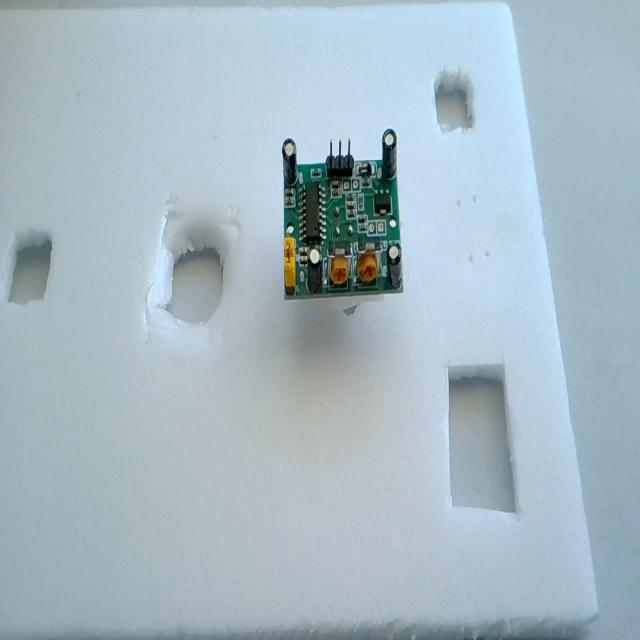Electrolytic capacitor: (382, 128, 397, 181), (307, 248, 323, 294), (282, 138, 297, 185), (387, 244, 402, 288)
IC: (300, 182, 324, 244)
pinheader: (326, 138, 354, 178)
